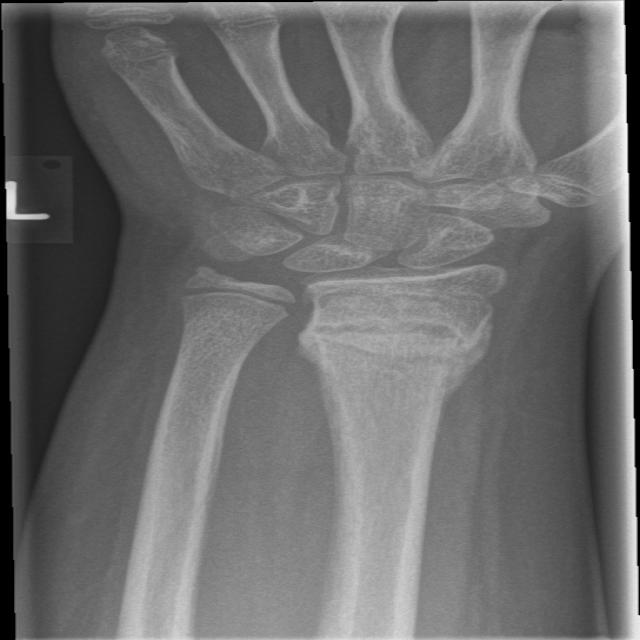radius fracture: (290, 299, 484, 404)
